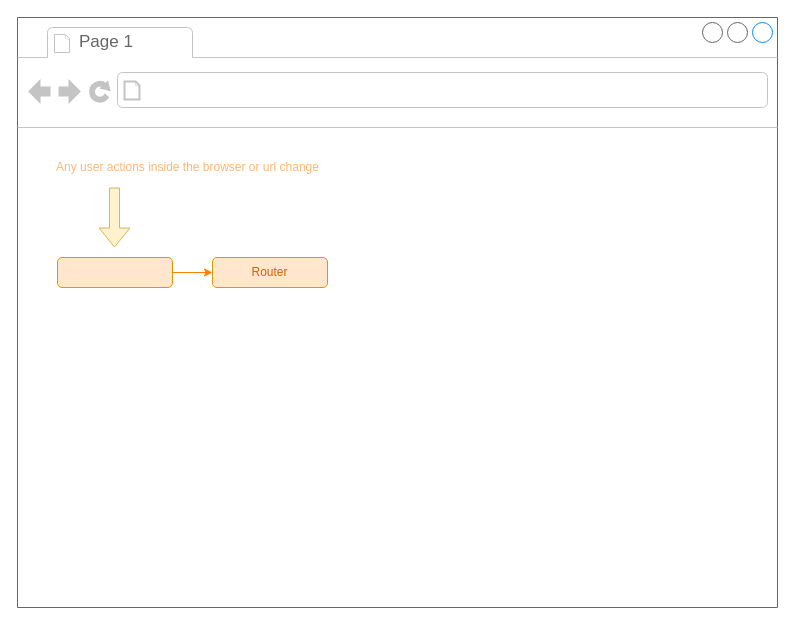
Some shapes in this 795 by 625 pixel diagram are drawn without their labels. The shapes that lost their labels are listed below. From the top down, each one's box as (x1, y1, x2, y2) in pixels, then its label:
(146, 76, 398, 104): https://fcm.myad.airbus.com
(56, 256, 172, 288): main.tsx
